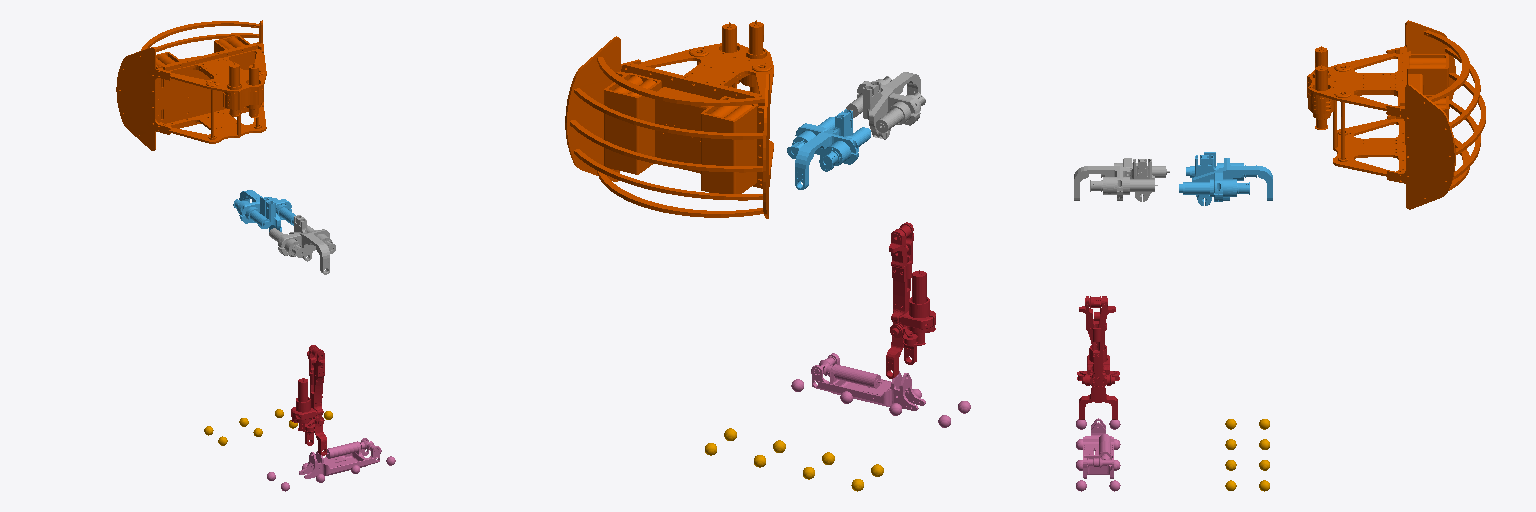
URDF robot description (caminante):
<robot name="caminante">
  
  <link name="l_foot">
    <inertial>
      <mass value="0.410" />
      <origin rpy="0 0 0" xyz="0.027 0 -0.067" />
      <inertia ixx="0.002" ixy="0" ixz="0" iyy="0.007" iyz="0" izz="0.008" />
    </inertial>
    <visual>
      <origin rpy="1.5657   -0.0000   -1.5708" xyz="0.0771   -0.0732    0.1504" />
      <geometry>
        <mesh filename="meshes/Left_Foot.obj" scale="1 1 1" />
      </geometry>
    </visual>
    <collision group="heel">
      <origin rpy="0 0 0" xyz="-0.0876 0.0300001 -0.040001" />
      <geometry>
        <sphere radius="0.0" />
      </geometry>
    </collision>
    <visual group="heel">
      <origin rpy="0 0 0" xyz="-0.0876 0.0300001 -0.040001" />
      <geometry>
        <sphere radius="0.01" />
      </geometry>
    </visual>
    <collision group="heel">
      <origin rpy="0 0 0" xyz="-0.0876 -0.0300001 -0.040001" />
      <geometry>
        <sphere radius="0.0" />
      </geometry>
    </collision>
    <visual group="heel">
      <origin rpy="0 0 0" xyz="-0.0876 -0.0300001 -0.040001" />
      <geometry>
        <sphere radius="0.01" />
      </geometry>
    </visual>
    <collision group="toe">
      <origin rpy="0 0 0" xyz="0.1728 0.0300001 -0.040001" />
      <geometry>
        <sphere radius="0.0" />
      </geometry>
    </collision>
    <visual group="toe">
      <origin rpy="0 0 0" xyz="0.1728 0.0300001 -0.040001" />
      <geometry>
        <sphere radius="0.01" />
      </geometry>
    </visual>
    <collision group="toe">
      <origin rpy="0 0 0" xyz="0.1728 -0.0300001 -0.040001" />
      <geometry>
        <sphere radius="0.0" />
      </geometry>
    </collision>
    <visual group="toe">
      <origin rpy="0 0 0" xyz="0.1728 -0.0300001 -0.040001" />
      <geometry>
        <sphere radius="0.01" />
      </geometry>
    </visual>
    <collision group="midfoot_front">
      <origin rpy="0 0 0" xyz="0.086 0.0300001 -0.040001" />
      <geometry>
        <sphere radius="0.0" />
      </geometry>
    </collision>
    <visual group="midfoot_front">
      <origin rpy="0 0 0" xyz="0.086 0.0300001 -0.040001" />
      <geometry>
        <sphere radius="0.01" />
      </geometry>
    </visual>
    <collision group="midfoot_front">
      <origin rpy="0 0 0" xyz="0.086 -0.0300001 -0.040001" />
      <geometry>
        <sphere radius="0.0" />
      </geometry>
    </collision>
    <visual group="midfoot_front">
      <origin rpy="0 0 0" xyz="0.086 -0.0300001 -0.040001" />
      <geometry>
        <sphere radius="0.01" />
      </geometry>
    </visual>
    <collision group="midfoot_rear">
      <origin rpy="0 0 0" xyz="-0.0008 0.0300001 -0.040001" />
      <geometry>
        <sphere radius="0.0" />
      </geometry>
    </collision>
    <visual group="midfoot_rear">
      <origin rpy="0 0 0" xyz="-0.0008 0.0300001 -0.040001" />
      <geometry>
        <sphere radius="0.01" />
      </geometry>
    </visual>
    <collision group="midfoot_rear">
      <origin rpy="0 0 0" xyz="-0.0008 -0.0300001 -0.040001" />
      <geometry>
        <sphere radius="0.0" />
      </geometry>
    </collision>
    <visual group="midfoot_rear">
      <origin rpy="0 0 0" xyz="-0.0008 -0.0300001 -0.040001" />
      <geometry>
        <sphere radius="0.01" />
      </geometry>
    </visual>
  </link>
 

  <link name="l_lglut">
    <inertial>
      <mass value="0.437298303222345" />
      <origin rpy="0  0  0" xyz="-0.03492  0.03099  0.00015" />
      <inertia ixx="0.000344658356090036" ixy="1.4438940947967E-05" ixz="5.03774354824921E-05" iyy="0.000819710121372963" iyz="1.99893504999227E-05" izz="0.00066955963284712" />
    </inertial>
    <visual>
      <origin rpy="0  0  0" xyz="-0.00384 -0.3021  -0.06945" />
      <geometry>
        <mesh filename="meshes/Left_Hip.obj" scale="1 1 1" />
      </geometry>
    </visual>
  </link>
  <link name="l_lleg">
    <inertial>
      <mass value="0.512558545145301" />
      <origin rpy="0  0  0" xyz="0      -0.11018  0.00843" />
      <inertia ixx="0.00213377963819277" ixy="3.74835359824284E-05" ixz="4.14809936352257E-06" iyy="0.000231679313040171" iyz="0.000107877166470471" izz="0.0021213704718963" />
    </inertial>
    <visual>
      <origin rpy="0  0  0" xyz="0.07301 -0.09254 -0.0714" />
      <geometry>
        <mesh filename="meshes/Bottom_Left_Leg.obj" scale="1 1 1" />
      </geometry>
      <material name="red">
        <color rgba="0.675 0.169 0.216 1.0" />
      </material>
    </visual>
  </link>

  <link name="l_talus">
    <inertial>
      <mass value="0.117206413777382" />
      <origin rpy="0  0  0" xyz="0       0.00525  0.02552" />
      <inertia ixx="0.000111896827570048" ixy="5.94543100842475E-07" ixz="2.57140126177776E-06" iyy="0.000105965848764851" iyz="2.65868228080628E-05" izz="4.20803404080659E-05" />
    </inertial>
    <visual>
      <origin rpy="0  0  0" xyz="0.07317  0.12875 -0.07027" />
      <geometry>
        <mesh filename="meshes/Left_Ankle.obj" scale="1 1 1" />
      </geometry>
      <material name="red">
        <color rgba="0.675 0.169 0.216 1.0" />
      </material>
    </visual>
  </link>


  <link name="l_uleg">
    <inertial>
      <mass value="0.498661421818378" />
      <origin rpy="0  0  0" xyz="0      -0.09292 -0.00071" />
      <inertia ixx="0.00222023286489819" ixy="2.76170328092637E-05" ixz="4.42071982951624E-07" iyy="0.000133616406118555" iyz="1.5209311638611E-05" izz="0.00230781854965746" />
    </inertial>
    <visual>
      <origin rpy="0  0  0" xyz="0.07675 -0.30208 -0.07247" />
      <geometry>
        <mesh filename="meshes/Top_Left_Leg.obj" scale="1 1 1" />
      </geometry>
      <material name="red">
        <color rgba="0.675 0.169 0.216 1.0" />
      </material>
    </visual>
    
    
    
  </link>

  <link name="pelvis">
    <inertial>
      <mass value="3.4909068" />
      <origin rpy="1.56567  0      -1.57079" xyz="0 0 0" />
      <inertia ixx="0.0271179077728007" ixy="1.18852566353138E-05" ixz="2.95478792996208E-05" iyy="0.0323353494450389" iyz="0.00289482168449842" izz="0.0422145237899791" />
    </inertial>
    <visual>
      <geometry>
        
        <origin rpy="1.56567  0      -1.57079" xyz="0.0786    0.05923   -0.41164" />
        <mesh filename="meshes/Body.obj" scale="1 1 1" />
      </geometry>
    </visual>
  </link>
 
  <link name="r_foot">
    <inertial>
      <mass value="0.41" />
      <origin rpy="0 0 0" xyz="0.027 0 -0.067" />
      <inertia ixx="0.002" ixy="0" ixz="0" iyy="0.007" iyz="0" izz="0.008" />
    </inertial>
    <visual>
      <origin rpy="1.5657   -0.0000   -1.5708" xyz="0.0771    0.1935    0.1504" />
      <geometry>
        <mesh filename="meshes/Right_Foot.obj" scale="1 1 1" />
      </geometry>
    </visual>
    <collision group="heel">
      <origin rpy="0 0 0" xyz="-0.0876 0.0300001 -0.040001" />
      <geometry>
        <sphere radius="0.0" />
      </geometry>
    </collision>
    <visual group="heel">
      <origin rpy="0 0 0" xyz="-0.0876 0.0300001 -0.040001" />
      <geometry>
        <sphere radius="0.01" />
      </geometry>
    </visual>
    <collision group="heel">
      <origin rpy="0 0 0" xyz="-0.0876 -0.0300001 -0.040001" />
      <geometry>
        <sphere radius="0.0" />
      </geometry>
    </collision>
    <visual group="heel">
      <origin rpy="0 0 0" xyz="-0.0876 -0.0300001 -0.040001" />
      <geometry>
        <sphere radius="0.01" />
      </geometry>
    </visual>
    <collision group="toe">
      <origin rpy="0 0 0" xyz="0.1728 0.0300001 -0.040001" />
      <geometry>
        <sphere radius="0.0" />
      </geometry>
    </collision>
    <visual group="toe">
      <origin rpy="0 0 0" xyz="0.1728 0.0300001 -0.040001" />
      <geometry>
        <sphere radius="0.01" />
      </geometry>
    </visual>
    <collision group="toe">
      <origin rpy="0 0 0" xyz="0.1728 -0.0300001 -0.040001" />
      <geometry>
        <sphere radius="0.0" />
      </geometry>
    </collision>
    <visual group="toe">
      <origin rpy="0 0 0" xyz="0.1728 -0.0300001 -0.040001" />
      <geometry>
        <sphere radius="0.01" />
      </geometry>
    </visual>
    <collision group="midfoot_front">
      <origin rpy="0 0 0" xyz="0.086 0.0300001 -0.040001" />
      <geometry>
        <sphere radius="0.0" />
      </geometry>
    </collision>
    <visual group="midfoot_front">
      <origin rpy="0 0 0" xyz="0.086 0.0300001 -0.040001" />
      <geometry>
        <sphere radius="0.01" />
      </geometry>
    </visual>
    <collision group="midfoot_front">
      <origin rpy="0 0 0" xyz="0.086 -0.0300001 -0.040001" />
      <geometry>
        <sphere radius="0.0" />
      </geometry>
    </collision>
    <visual group="midfoot_front">
      <origin rpy="0 0 0" xyz="0.086 -0.0300001 -0.040001" />
      <geometry>
        <sphere radius="0.01" />
      </geometry>
    </visual>
    <collision group="midfoot_rear">
      <origin rpy="0 0 0" xyz="-0.0008 0.0300001 -0.040001" />
      <geometry>
        <sphere radius="0.0" />
      </geometry>
    </collision>
    <visual group="midfoot_rear">
      <origin rpy="0 0 0" xyz="-0.0008 0.0300001 -0.040001" />
      <geometry>
        <sphere radius="0.01" />
      </geometry>
    </visual>
    <collision group="midfoot_rear">
      <origin rpy="0 0 0" xyz="-0.0008 -0.0300001 -0.040001" />
      <geometry>
        <sphere radius="0.0" />
      </geometry>
    </collision>
    <visual group="midfoot_rear">
      <origin rpy="0 0 0" xyz="-0.0008 -0.0300001 -0.040001" />
      <geometry>
        <sphere radius="0.01" />
      </geometry>
    </visual>
  </link>


  
  <link name="r_lglut">
    <inertial>
      <mass value="0.429542604129865" />
      <origin rpy="0  0  0" xyz="0.03461  0.03088  0.00015" />
      <inertia ixx="0.000335620222780637" ixy="1.71766252899159E-05" ixz="6.82036560203188E-05" iyy="0.000796625170345829" iyz="1.87749814800264E-05" izz="0.000651844767117383" />
    </inertial>
    <visual>
      <origin rpy="0  0  0" xyz="-0.11497 -0.30207 -0.0756" />
      <geometry>
        <mesh filename="meshes/Right_Hip.obj" scale="1 1 1" />
      </geometry>
    </visual>
  </link>
  <link name="r_lleg">
    <inertial>
      <mass value="0.496399914621672" />
      <origin rpy="0  0  0" xyz="0      -0.11414  0.00893" />
      <inertia ixx="0.00193251368574828" ixy="2.87905126861506E-05" ixz="3.64310219704147E-06" iyy="0.000228879661927419" iyz="9.27392912409724E-05" izz="0.00191229395918849" />
    </inertial>
    <visual>
      <origin rpy="0  0  0" xyz="-0.1935  -0.09254 -0.0714" />
      <geometry>
        <mesh filename="meshes/Bottom_Right_Leg.obj" scale="1 1 1" />
      </geometry>
      <material name="red">
        <color rgba="0.675 0.169 0.216 1.0" />
      </material>
    </visual>
  </link>

  <link name="r_talus">
    <inertial>
      <mass value="0.113529232705104" />
      <origin rpy="0  0  0" xyz="0       0.00601  0.02692" />
      <inertia ixx="0.000102683690789615" ixy="5.24094963661094E-07" ixz="2.43532379680455E-06" iyy="9.8810717962194E-05" iyz="2.27559446851328E-05" izz="3.98903277983113E-05" />
    </inertial>
    <visual>
      <origin rpy="0  0  0" xyz="-0.19355  0.12875 -0.07027" />
      <geometry>
        <mesh filename="meshes/Right_Ankle.obj" scale="1 1 1" />
      </geometry>
      <material name="red">
        <color rgba="0.675 0.169 0.216 1.0" />
      </material>
    </visual>
  </link>



  <link name="r_uleg">
    <inertial>
      <mass value="0.473894617598188" />
      <origin rpy="0  0  0" xyz="0      -0.09427 -0.00073" />
      <inertia ixx="0.00219613513040201" ixy="2.41554166439975E-05" ixz="4.92477643768768E-07" iyy="0.000130736562803138" iyz="1.49414818095768E-05" izz="0.00228460638702232" />
    </inertial>
    <visual>
      <origin rpy="0  0  0" xyz="-0.19021 -0.30208 -0.07247" />
      <geometry>
        <mesh filename="meshes/Top_Right_Leg.obj" scale="1 1 1" />
      </geometry>
      <material name="red">
        <color rgba="0.675 0.169 0.216 1.0" />
      </material>
    </visual>
    
    
    
 </link> 







  <joint name="l_leg_akx" type="revolute">
    <origin rpy="-0.0012    1.5657    1.5696" xyz="0   -0.0220    0.0060" />
    <axis xyz="1 0 0" />
    <parent link="l_talus" />
    <child link="l_foot" />
    <dynamics damping="0.1" friction="0" />
    <limit effort="4.4928" lower="-0.8" upper="0.8" velocity="12" />
    <safety_controller k_position="100" k_velocity="100" soft_lower_limit="-10.8" soft_upper_limit="10.8" />
  </joint>
  <joint name="l_leg_aky" type="revolute">
    <origin rpy="0  0  0" xyz="-1.50000000e-04  -2.21290000e-01  -1.13000000e-03" />
    <axis xyz="-1  0  0" />
    <parent link="l_lleg" />
    <child link="l_talus" />
    <dynamics damping="0.1" friction="0" />
    <limit effort="67.932" lower="-1" upper="0.7" velocity="12" />
    <safety_controller k_position="100" k_velocity="100" soft_lower_limit="-11" soft_upper_limit="10.7" />
  </joint>
  <joint name="l_leg_hpx" type="revolute">
    
    <origin rpy="1.56567  0      -1.57079" xyz="0.0107    0.05539   -0.10919" />
    
    <axis xyz="0      -0.00511  0.99998" />  
    <parent link="pelvis" />
    <child link="l_lglut" />
    <dynamics damping="0.1" friction="0" />
    <limit effort="67.932" lower="-0.523599" upper="0.523599" velocity="12" />
    <safety_controller k_position="100" k_velocity="100" soft_lower_limit="-10.5236" soft_upper_limit="10.5236" />
  </joint>
  <joint name="l_leg_hpy" type="revolute">
    
    <origin rpy="0  0  0" xyz="-8.05900000e-02  -1.00000000e-05   3.02000000e-03" />
    <axis xyz="-1  0  0" />
    <parent link="l_lglut" />
    <child link="l_uleg" />
    <dynamics damping="0.1" friction="0" />
    <limit effort="67.932" lower="-1.61234" upper="0.65764" velocity="12" />
    <safety_controller k_position="100" k_velocity="100" soft_lower_limit="-11.6123" soft_upper_limit="10.6576" />
  </joint>

  <joint name="l_leg_kny" type="revolute">
    <origin rpy="0  0  0" xyz="0.00373 -0.20954 -0.00107" />
    <axis xyz="-1  0  0" />
    <parent link="l_uleg" />
    <child link="l_lleg" />
    <dynamics damping="0.1" friction="0" />
    <limit effort="67.932" lower="0" upper="1.57" velocity="12" />
    <safety_controller k_position="100" k_velocity="100" soft_lower_limit="-10" soft_upper_limit="12.3564" />
  </joint>



  <joint name="r_leg_akx" type="revolute">
    <origin rpy="-0.0012    1.5657    1.5696" xyz="0   -0.0220    0.0060" />
    <axis xyz="1 0 0" />
    <parent link="r_talus" />
    <child link="r_foot" />
    <dynamics damping="0.1" friction="0" />
    <limit effort="4.4928" lower="-0.8" upper="0.8" velocity="12" />
    <safety_controller k_position="100" k_velocity="100" soft_lower_limit="-10.8" soft_upper_limit="10.8" />
  </joint>
  <joint name="r_leg_aky" type="revolute">
    <origin rpy="0  0  0" xyz="4.00000000e-05  -2.21290000e-01  -1.13000000e-03" />
    <axis xyz="-1  0  0" />
    <parent link="r_lleg" />
    <child link="r_talus" />
    <dynamics damping="0.1" friction="0" />
    <limit effort="67.932" lower="-1" upper="0.7" velocity="12" />
    <safety_controller k_position="100" k_velocity="100" soft_lower_limit="-11" soft_upper_limit="10.7" />
  </joint>
  <joint name="r_leg_hpx" type="revolute">
    <origin rpy="1.56567  0      -1.57079" xyz="0.00455  -0.05573  -0.10919" />
    <axis xyz="0       0.00511 -0.99998" />
    <parent link="pelvis" />
    <child link="r_lglut" />
    <dynamics damping="0.1" friction="0" />
    <limit effort="67.932" lower="-0.523599" upper="0.523599" velocity="12" />
    <safety_controller k_position="100" k_velocity="100" soft_lower_limit="-10.5236" soft_upper_limit="10.5236" />
  </joint>
  <joint name="r_leg_hpy" type="revolute">
    <origin rpy="0  0  0" xyz="7.52400000e-02   1.00000000e-05  -3.13000000e-03" />
    <axis xyz="-1  0  0" />
    <parent link="r_lglut" />
    <child link="r_uleg" />
    <dynamics damping="0.1" friction="0" />
    <limit effort="67.932" lower="-1.61234" upper="0.65764" velocity="12" />
    <safety_controller k_position="100" k_velocity="100" soft_lower_limit="-11.6123" soft_upper_limit="10.6576" />
  </joint>

  <joint name="r_leg_kny" type="revolute">
    <origin rpy="0  0  0" xyz="0.00328 -0.20954 -0.00107" />
    <axis xyz="-1  0  0" />
    <parent link="r_uleg" />
    <child link="r_lleg" />
    <dynamics damping="0.1" friction="0" />
    <limit effort="67.932" lower="0" upper="1.57" velocity="12" />
    <safety_controller k_position="100" k_velocity="100" soft_lower_limit="-10" soft_upper_limit="12.3564" />
  </joint>
 
  <frame link="l_foot" name="l_foot_sole" rpy="0 0 0" xyz="0.0426  0.0017 -0.040001" />
  <frame link="r_foot" name="r_foot_sole" rpy="0 0 0" xyz="0.0426 -0.0017 -0.040001" />
  <frame link="l_foot" name="l_foot_toe" rpy="0 0 0" xyz="0.1728 0.0017 -0.040001" />
  <frame link="r_foot" name="r_foot_toe" rpy="0 0 0" xyz="0.1728 -0.0017 -0.040001" />



 
  



  <transmission name="l_leg_kny_trans" type="pr2_mechanism_model/SimpleTransmission">
    <actuator name="l_leg_kny_motor" />
    <joint name="l_leg_kny" />
    <mechanicalReduction>1</mechanicalReduction>
  </transmission>
  <transmission name="l_leg_akx_trans" type="pr2_mechanism_model/SimpleTransmission">
    <actuator name="l_leg_akx_motor" />
    <joint name="l_leg_akx" />
    <mechanicalReduction>1</mechanicalReduction>
  </transmission>
  <transmission name="l_leg_hpy_trans" type="pr2_mechanism_model/SimpleTransmission">
    <actuator name="l_leg_hpy_motor" />
    <joint name="l_leg_hpy" />
    <mechanicalReduction>1</mechanicalReduction>
  </transmission>
  <transmission name="l_leg_hpx_trans" type="pr2_mechanism_model/SimpleTransmission">
    <actuator name="l_leg_hpx_motor" />
    <joint name="l_leg_hpx" />
    <mechanicalReduction>1</mechanicalReduction>
  </transmission>
  <transmission name="l_leg_aky_trans" type="pr2_mechanism_model/SimpleTransmission">
    <actuator name="l_leg_aky_motor" />
    <joint name="l_leg_aky" />
    <mechanicalReduction>1</mechanicalReduction>
  </transmission>



  <transmission name="r_leg_kny_trans" type="pr2_mechanism_model/SimpleTransmission">
    <actuator name="r_leg_kny_motor" />
    <joint name="r_leg_kny" />
    <mechanicalReduction>1</mechanicalReduction>
  </transmission>
  <transmission name="r_leg_akx_trans" type="pr2_mechanism_model/SimpleTransmission">
    <actuator name="r_leg_akx_motor" />
    <joint name="r_leg_akx" />
    <mechanicalReduction>1</mechanicalReduction>
  </transmission>
  <transmission name="r_leg_hpy_trans" type="pr2_mechanism_model/SimpleTransmission">
    <actuator name="r_leg_hpy_motor" />
    <joint name="r_leg_hpy" />
    <mechanicalReduction>1</mechanicalReduction>
  </transmission>
  <transmission name="r_leg_hpx_trans" type="pr2_mechanism_model/SimpleTransmission">
    <actuator name="r_leg_hpx_motor" />
    <joint name="r_leg_hpx" />
    <mechanicalReduction>1</mechanicalReduction>
  </transmission>
  <transmission name="r_leg_aky_trans" type="pr2_mechanism_model/SimpleTransmission">
    <actuator name="r_leg_aky_motor" />
    <joint name="r_leg_aky" />
    <mechanicalReduction>1</mechanicalReduction>
  </transmission>



</robot>

--- Render facts (derived) ---
3 views of the same robot in one strip: view 1: azimuth 30°, elevation 25°; view 2: azimuth 150°, elevation 25°; view 3: azimuth 270°, elevation 25° (orthographic).
Robot: caminante — 11 links, 10 joints (10 revolute); root link pelvis; default pose: every joint at zero.
Visible links, largest first — view 1: pelvis, r_lleg, r_foot, r_lglut, l_lglut; view 2: pelvis, r_lleg, r_foot, l_lglut, r_lglut, l_foot; view 3: pelvis, l_lglut, r_lleg, r_lglut, r_foot, l_foot.
Boxes of the visible links, box(x1,y1,x2,y2) form: pelvis: box(116, 20, 266, 150); r_lleg: box(291, 345, 326, 455); r_foot: box(267, 438, 395, 491); r_lglut: box(269, 215, 335, 274); l_lglut: box(233, 190, 295, 231); pelvis: box(565, 20, 773, 218); r_lleg: box(886, 222, 935, 378); r_foot: box(791, 353, 970, 427); l_lglut: box(787, 109, 870, 189); r_lglut: box(846, 72, 925, 139); l_foot: box(705, 428, 883, 491); pelvis: box(1307, 20, 1485, 209); l_lglut: box(1179, 152, 1272, 205); r_lleg: box(1077, 296, 1119, 419); r_lglut: box(1074, 158, 1169, 201); r_foot: box(1076, 418, 1120, 491); l_foot: box(1225, 419, 1269, 491).
Bounding box of the posed robot: 0.3562 × 0.7353 × 0.8086 m (x, y, z).
Meshes: 11 distinct files referenced, 5 mesh visuals loaded (5 OBJ); not drawn: 6 (reference not matched to a file when rendering).